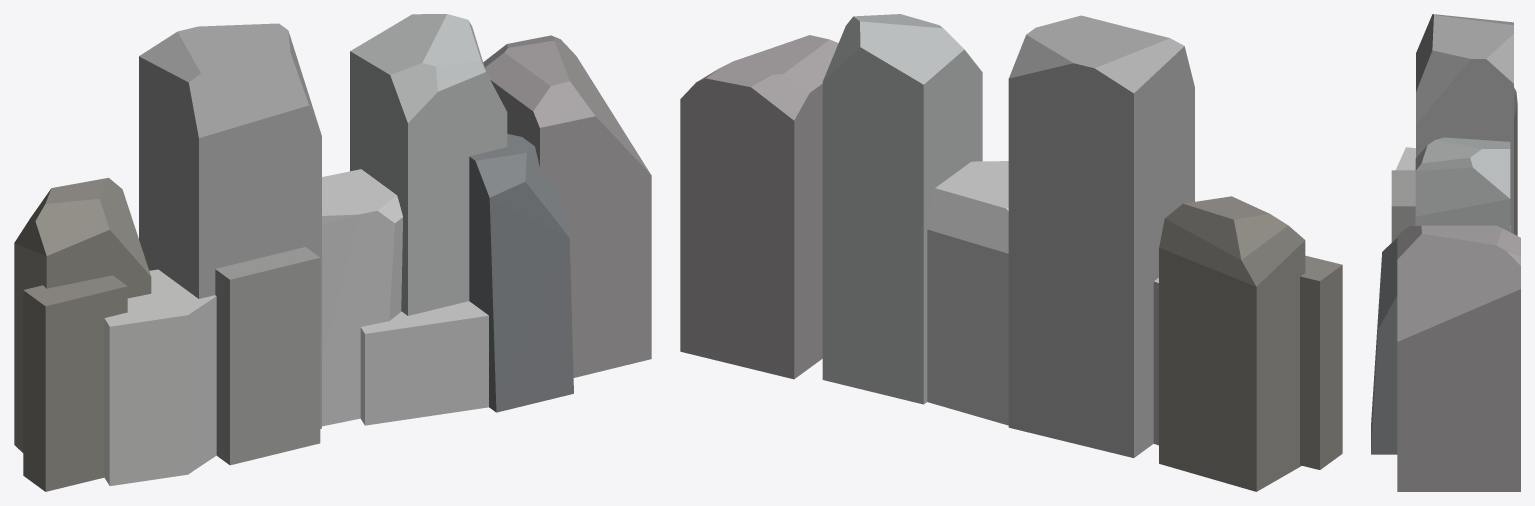
The model's file is Rock_Wall_07 2.fbx.
The picture shows the model from 3 angles, left to right: view 1: azimuth 30°, elevation 25°; view 2: azimuth 150°, elevation 25°; view 3: azimuth 270°, elevation 25°; orthographic projection. The views are drawn at different scales.
Parts seen in each view (by area): view 1: Rock_Wall_07; view 2: Rock_Wall_07; view 3: Rock_Wall_07.
Part boxes in pixels (x1,y1,x2,y2): Rock_Wall_07: (14,14,651,491); Rock_Wall_07: (680,14,1342,491); Rock_Wall_07: (1371,14,1520,491).
Size of the model in its own units: 1228 by 745 by 329.
